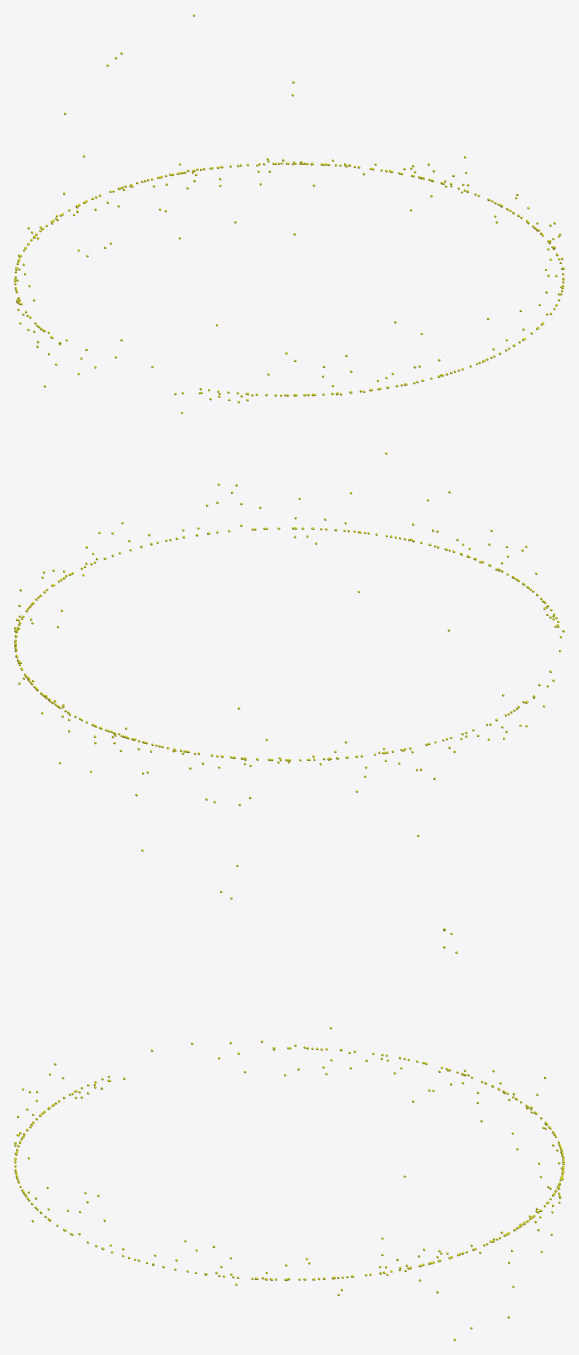
File: geo-coms.gltf
3 renders of one model, top to bottom at view 1: azimuth 30°, elevation 25°; view 2: azimuth 150°, elevation 25°; view 3: azimuth 270°, elevation 25°, orthographic.
Parts seen in each view (by area): view 1: Sphere.001; view 2: Sphere.001; view 3: Sphere.001.
Part boxes in pixels (bbox=[...]): Sphere.001: bbox=[14, 14, 564, 454]; Sphere.001: bbox=[14, 483, 564, 899]; Sphere.001: bbox=[14, 928, 564, 1340].
Size of the model in its own units: 2.52 by 2 by 2.52.
